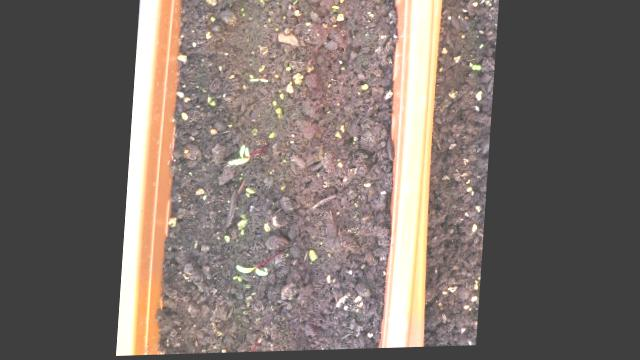crop: (236, 262, 273, 284)
